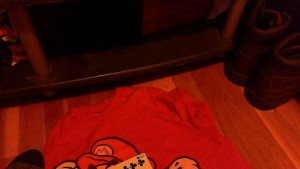NineOfClubs: (107, 152, 154, 169)
